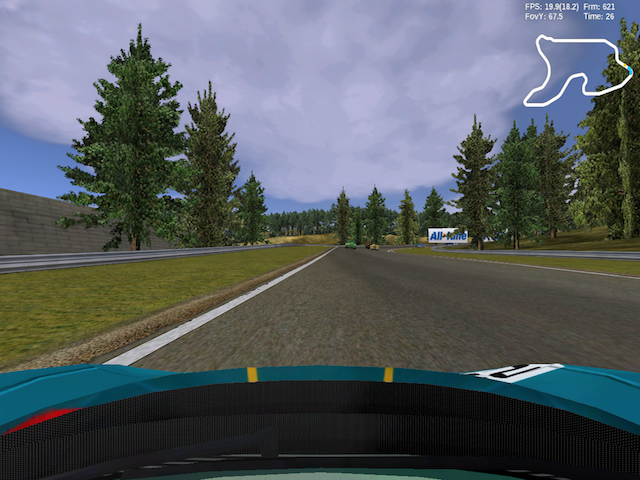Boxer96: (345, 241, 358, 249)
Cavallo360: (370, 245, 380, 251)
